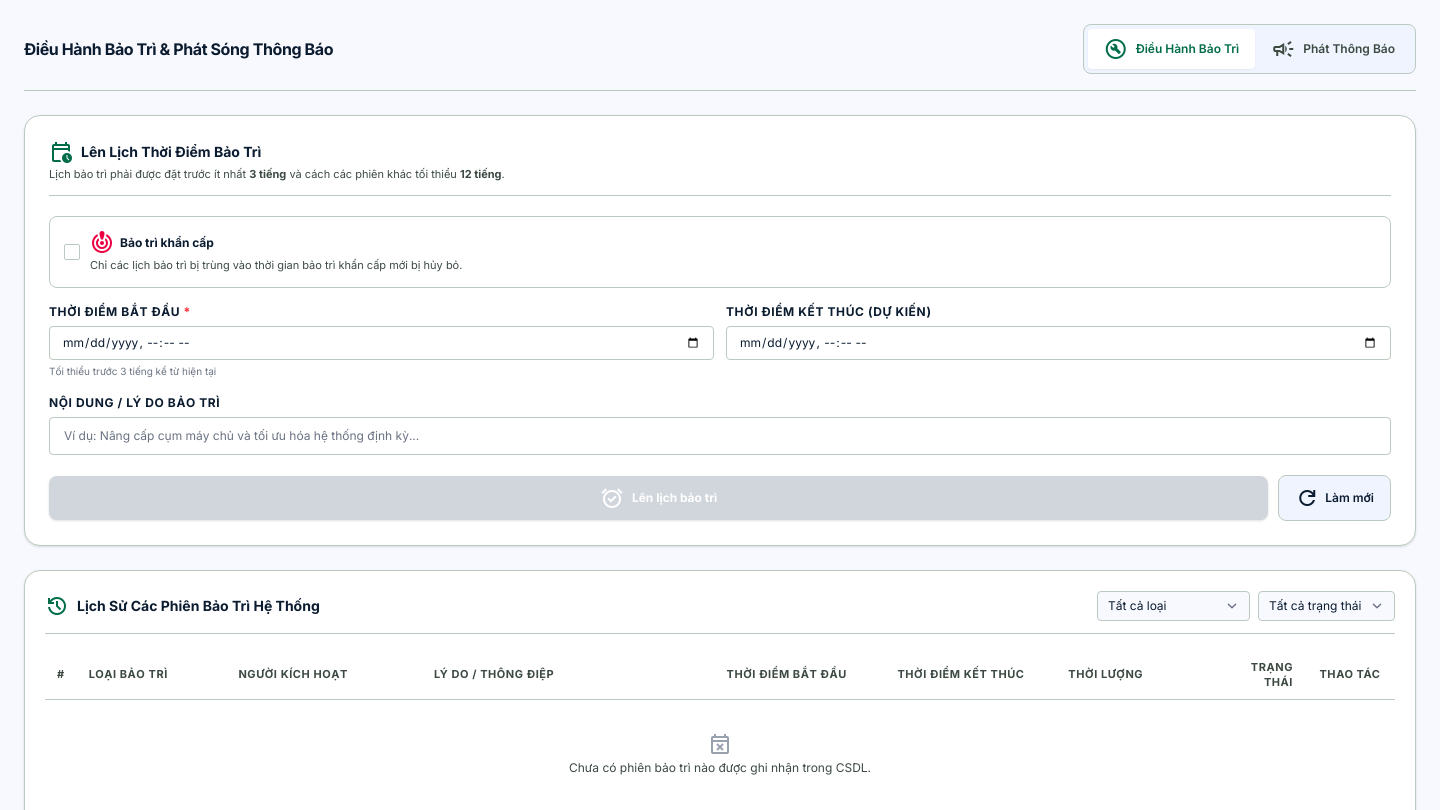
Scenario: Admin-web System Suite — BroadcastPage (2-Mode Maintenance & Broadcasts) › 6.5. Chuyển sang Tab Phát Thông Báo và gửi thông điệp hệ thống tới toàn bộ người dùng
# Click chuyển tab Phát Thông Báo
Click the text "Phát Thông Báo".
click(1349, 49)  # box [1303,41,1395,57]
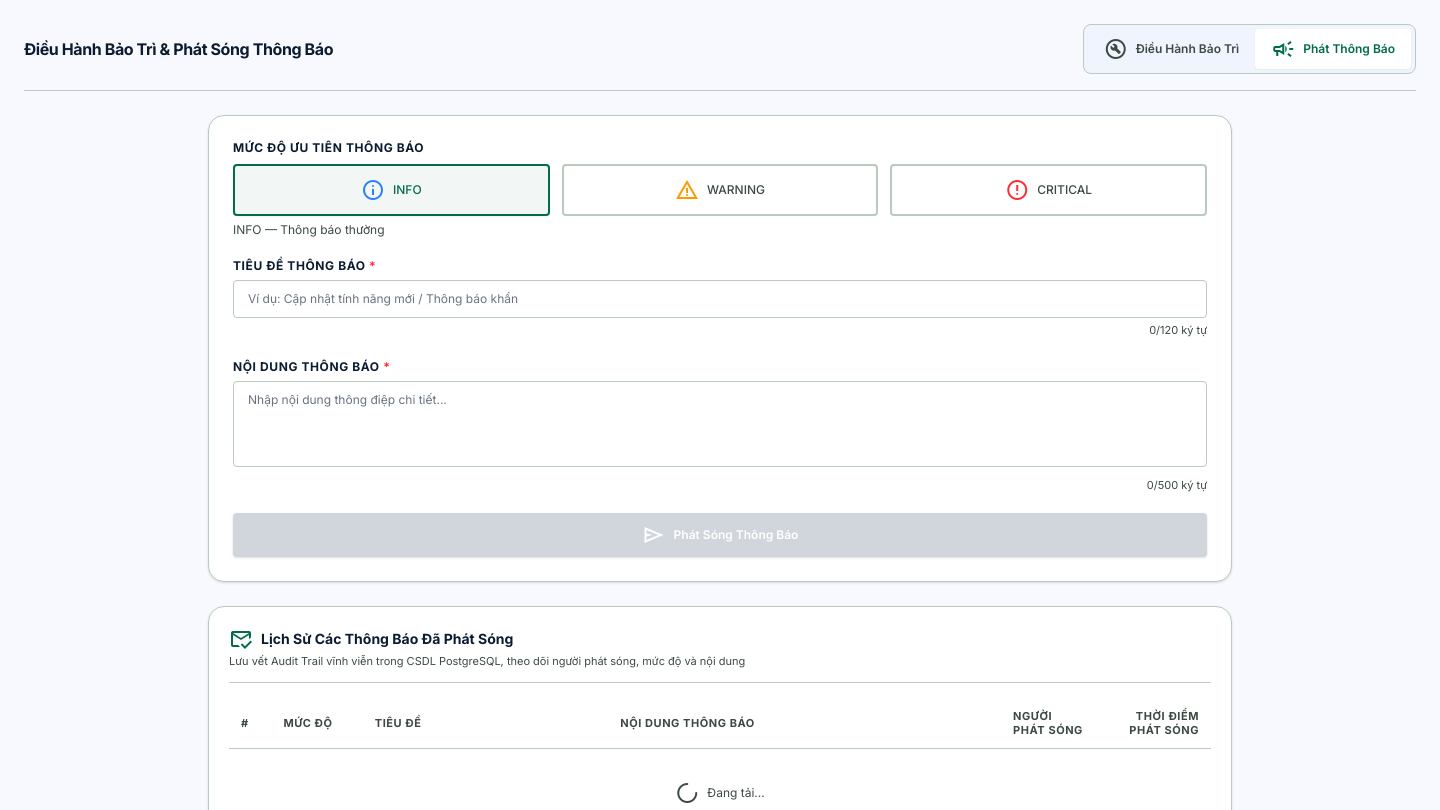
expect the field labelled "Tiêu đề thông báo *" is shown: met
expect the text box labelled "Nội dung thông báo *" is shown: met, box [233,380,1207,466]
Type "Cập nhật phiên bản mới 2.0" into the field labelled "Tiêu đề thông báo *".
click(720, 299); type("Cập nhật phiên bản mới 2.0")  # box [233,280,1207,318]
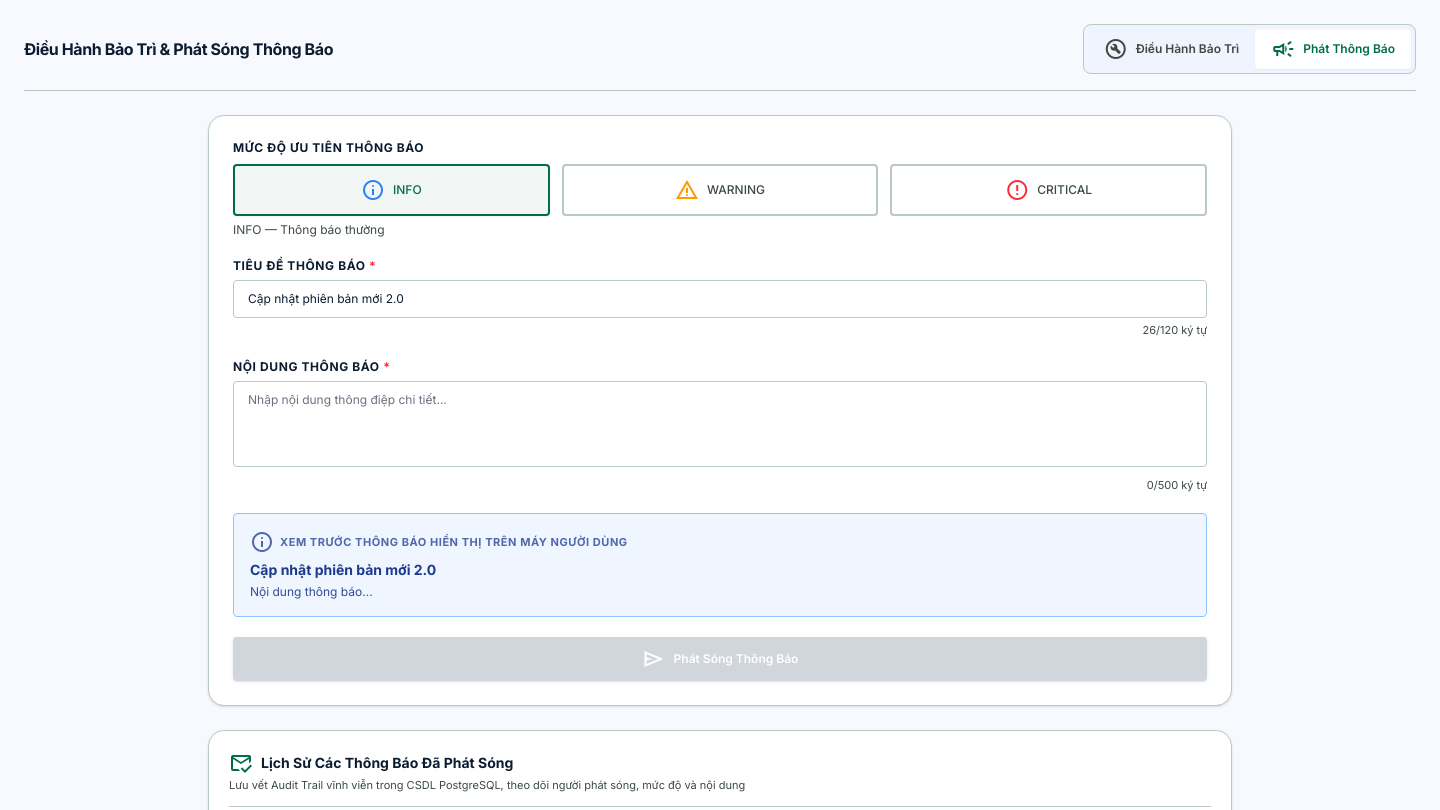
Type "Hệ thống đã nâng cấp tính năng đồng bộ và AIOps Sentinel." into the text box labelled "Nội dung thông báo *".
click(720, 424); type("Hệ thống đã nâng cấp tính năng đồng bộ và AIOps Sentinel.")  # box [233,380,1207,466]
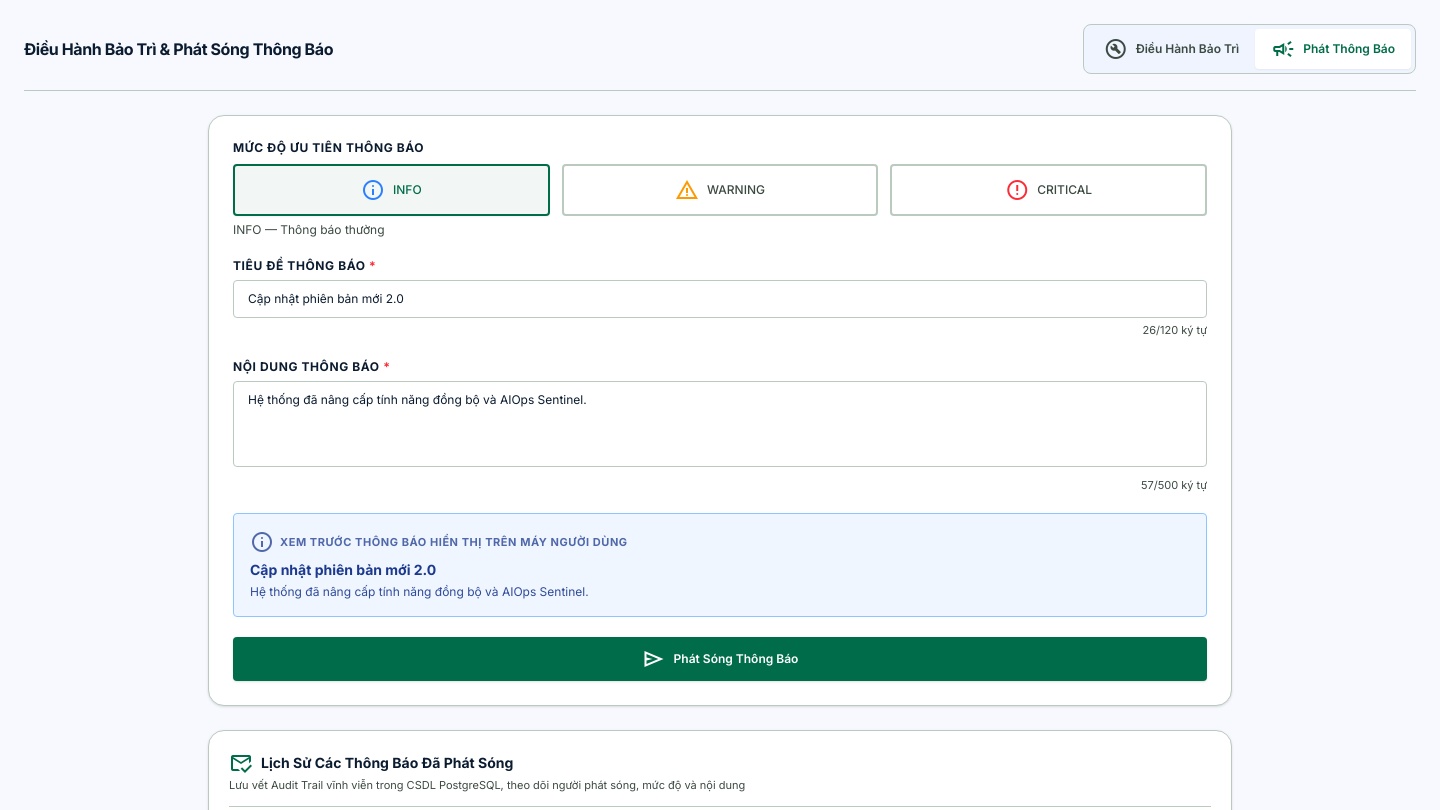
Click the button "Phát Sóng Thông Báo".
click(720, 659)  # box [233,637,1207,681]
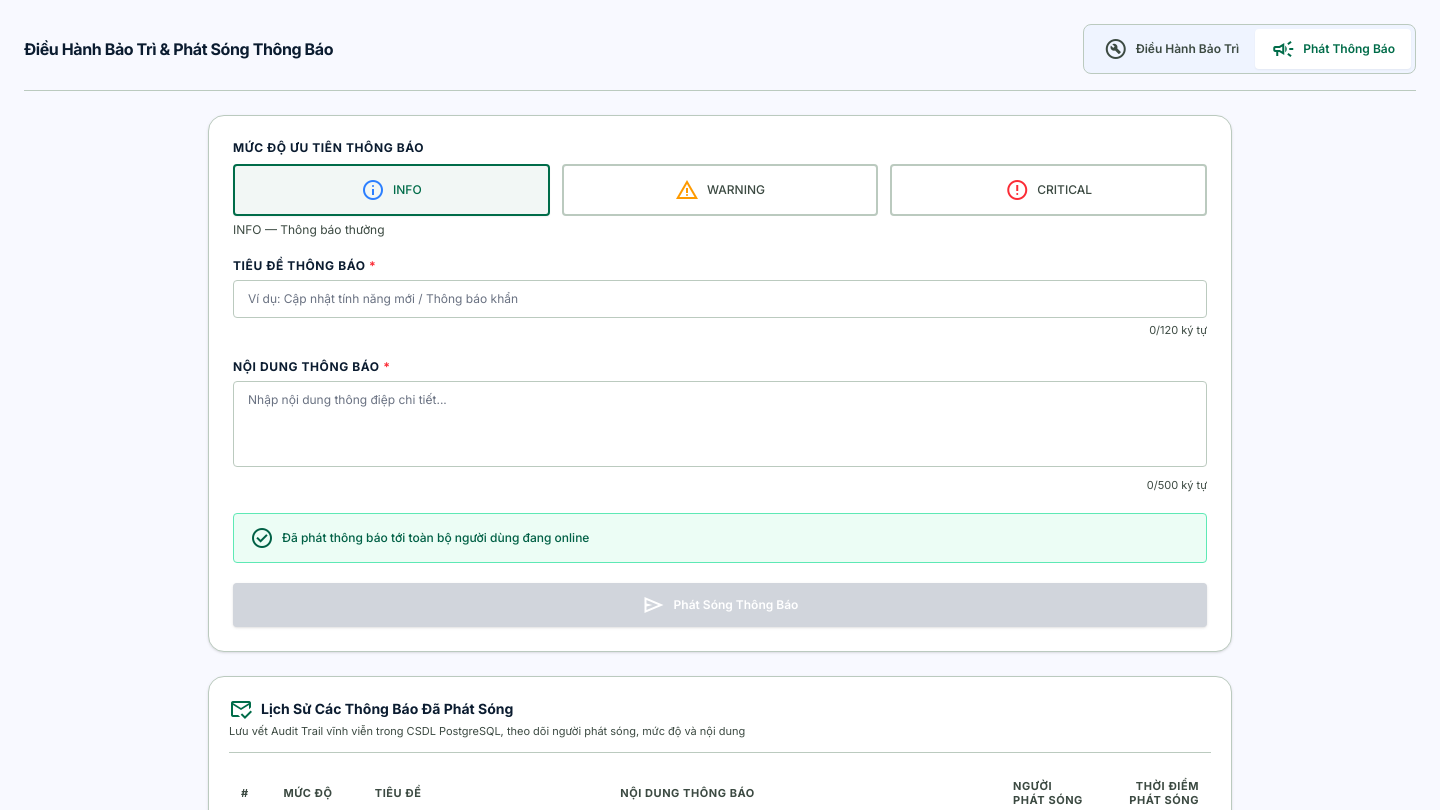
expect the text "Đã phát thông báo tới toàn bộ người dùng đang online" is shown: met, box [282,530,589,546]
